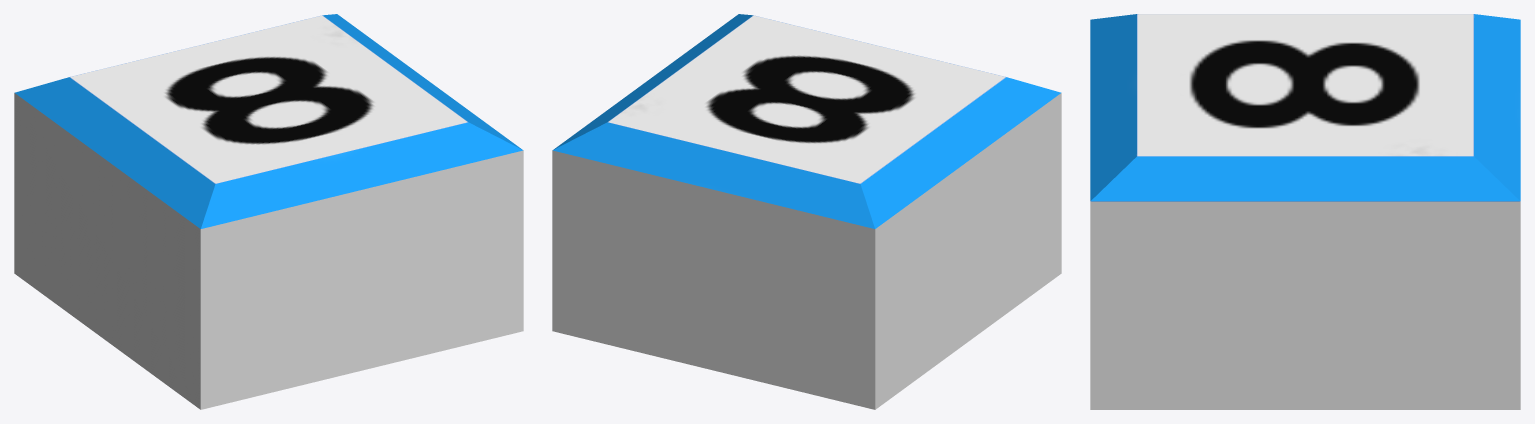
3 renders of one model, left to right at view 1: azimuth 30°, elevation 25°; view 2: azimuth 150°, elevation 25°; view 3: azimuth 270°, elevation 25°, orthographic. The views are drawn at different scales.
Parts seen in each view (by area): view 1: button.001; view 2: button.001; view 3: button.001.
Part boxes in pixels (x1=…): button.001: x1=14, y1=14, x2=523, y2=409; button.001: x1=552, y1=14, x2=1061, y2=409; button.001: x1=1090, y1=14, x2=1520, y2=409.
Bounding box in the file's own units: 20 × 12 × 20.
